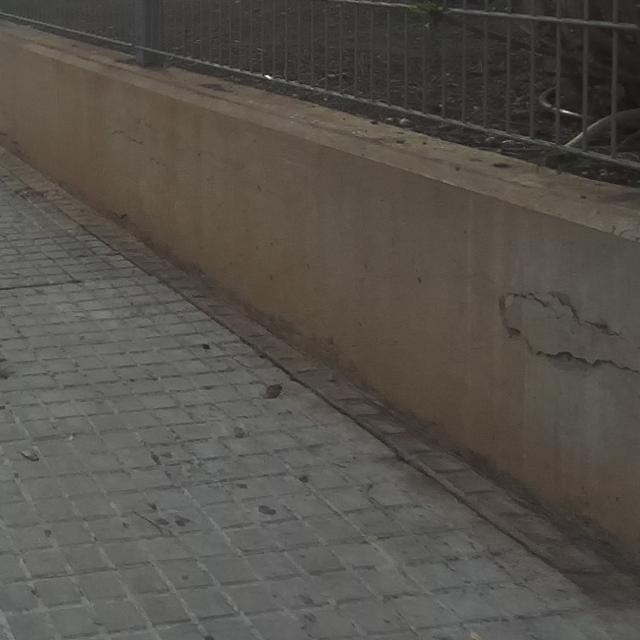calcada_quebrada: (134, 510, 164, 535)
